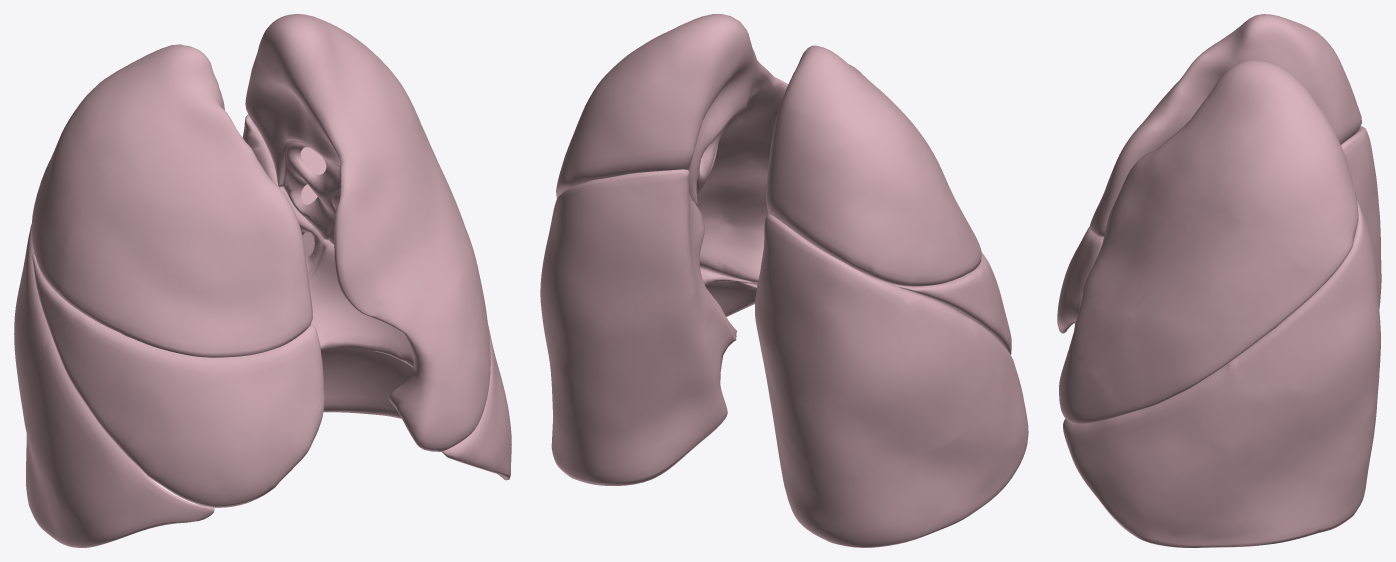
Rendered from respiratory.glb.
The picture shows the model from 3 angles, left to right: view 1: azimuth 30°, elevation 25°; view 2: azimuth 150°, elevation 25°; view 3: azimuth 270°, elevation 25°; orthographic projection. The views are drawn at different scales.
Visible parts, largest first — view 1: ZA_LUNG_RIGHT_SUPERIOR, ZA_LUNG_LEFT_SUPERIOR, ZA_LUNG_RIGHT_MIDDLE, ZA_LUNG_RIGHT_INFERIOR, ZA_LUNG_LEFT_INFERIOR; view 2: ZA_LUNG_RIGHT_INFERIOR, ZA_LUNG_LEFT_INFERIOR, ZA_LUNG_LEFT_SUPERIOR, ZA_LUNG_RIGHT_SUPERIOR, ZA_LUNG_RIGHT_MIDDLE; view 3: ZA_LUNG_LEFT_SUPERIOR, ZA_LUNG_LEFT_INFERIOR, ZA_LUNG_RIGHT_SUPERIOR, ZA_LUNG_RIGHT_INFERIOR, ZA_LUNG_RIGHT_MIDDLE.
Boxes of the visible parts, bbox=[...] form: ZA_LUNG_RIGHT_SUPERIOR: bbox=[31, 44, 312, 357]; ZA_LUNG_LEFT_SUPERIOR: bbox=[245, 14, 490, 451]; ZA_LUNG_RIGHT_MIDDLE: bbox=[32, 252, 324, 507]; ZA_LUNG_RIGHT_INFERIOR: bbox=[14, 224, 214, 547]; ZA_LUNG_LEFT_INFERIOR: bbox=[242, 114, 511, 480]; ZA_LUNG_RIGHT_INFERIOR: bbox=[755, 214, 1028, 547]; ZA_LUNG_LEFT_INFERIOR: bbox=[540, 169, 757, 485]; ZA_LUNG_LEFT_SUPERIOR: bbox=[556, 14, 788, 285]; ZA_LUNG_RIGHT_SUPERIOR: bbox=[766, 45, 981, 286]; ZA_LUNG_RIGHT_MIDDLE: bbox=[890, 252, 1011, 354]; ZA_LUNG_LEFT_SUPERIOR: bbox=[1059, 59, 1358, 424]; ZA_LUNG_LEFT_INFERIOR: bbox=[1063, 200, 1380, 547]; ZA_LUNG_RIGHT_SUPERIOR: bbox=[1090, 14, 1361, 237]; ZA_LUNG_RIGHT_INFERIOR: bbox=[1074, 126, 1381, 323]; ZA_LUNG_RIGHT_MIDDLE: bbox=[1057, 226, 1103, 333].
Bounding box in the file's own units: 0.5228 × 0.5284 × 0.3722.
